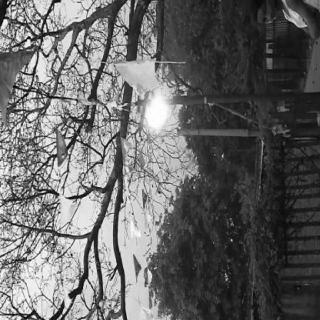other: (144, 87, 172, 139)
